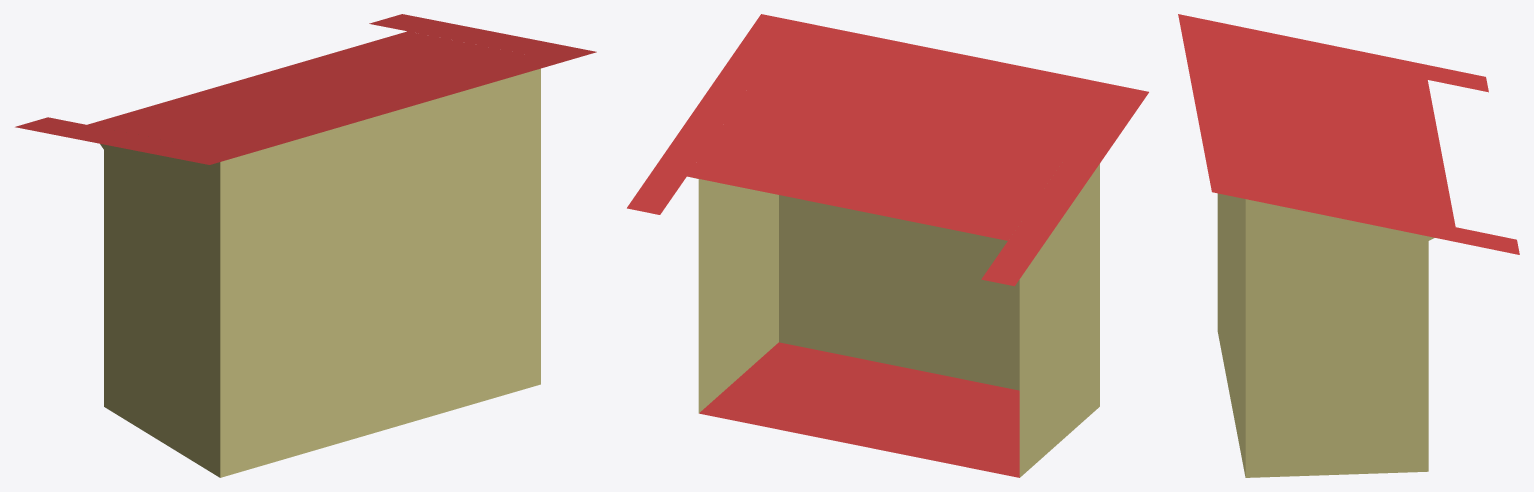
3 views of the same model, side by side, from view 1: azimuth 30°, elevation 25°; view 2: azimuth 150°, elevation 25°; view 3: azimuth 270°, elevation 25° (orthographic). The views are drawn at different scales.
Visible parts, largest first — view 1: group_5, group_3, group_4; view 2: group_3, group_5, group_6, group_4; view 3: group_5, group_3, group_4.
Boxes of the visible parts, x1,y1,x2,y2 form: group_5: (100,68,540,477); group_3: (15,14,596,164); group_4: (21,15,593,161); group_3: (627,14,1148,286); group_5: (691,164,1099,477); group_6: (699,342,1019,477); group_4: (628,15,1146,284); group_5: (1217,193,1434,477); group_3: (1178,14,1519,254); group_4: (1182,20,1518,253).
Bounding box in the file's own units: 9.13 × 6.99 × 6.82.
